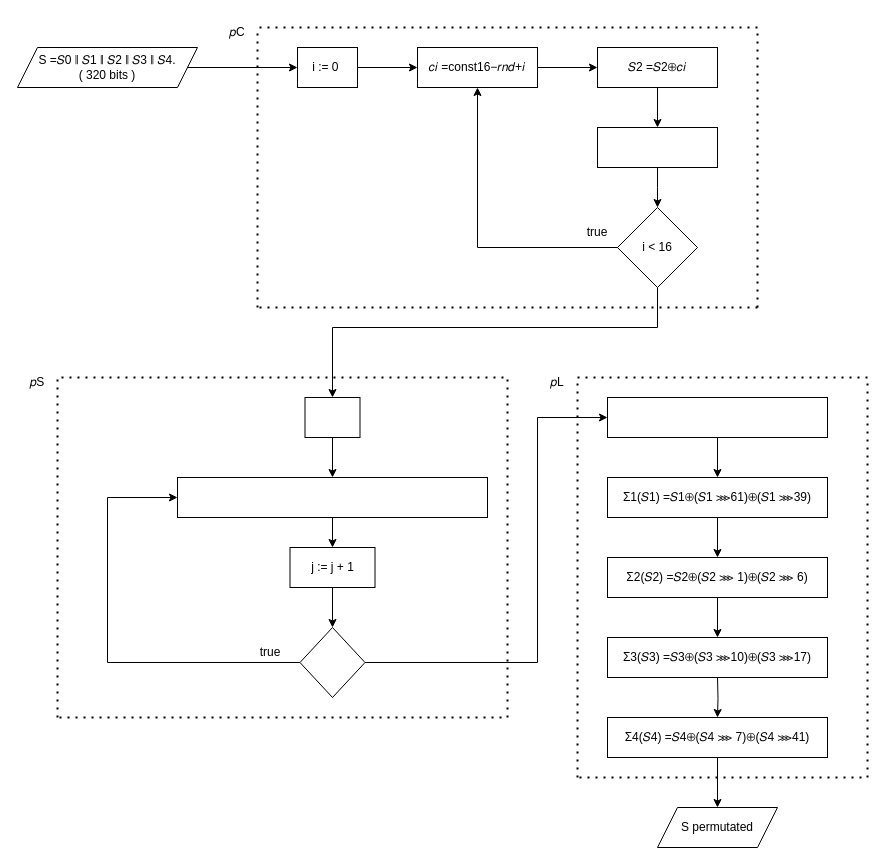
The diagram is 887 pixels wide and 865 high, and some of its shapes have lost their labels. The centre of each missing label's shape, as x and y in pixels:
(𝑠(0,𝑗),𝑠(1,𝑗),…,𝑠(4,𝑗)) = SBOX(𝑠(0,𝑗),𝑠(1,𝑗),…,𝑠(4,𝑗)): (x=332, y=497)
i := i + 1: (x=657, y=147)
j := 0: (x=332, y=417)
j < 64: (x=332, y=662)
Σ0(𝑆0) =𝑆0⊕(𝑆0 ⋙19)⊕(𝑆0 ⋙28): (x=717, y=417)
